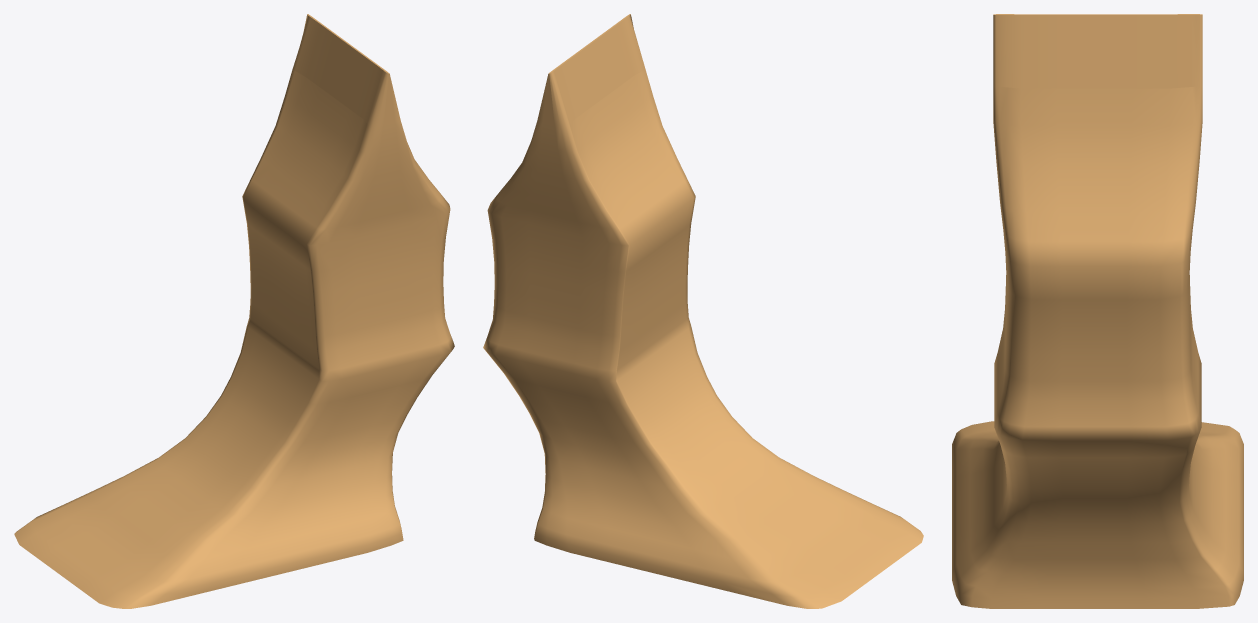
The model's file is HouseBase.obj.
3 views of the same model, side by side, from view 1: azimuth 30°, elevation 25°; view 2: azimuth 150°, elevation 25°; view 3: azimuth 270°, elevation 25° (orthographic). The views are drawn at different scales.
Parts seen in each view (by area): view 1: House1 HouseBase1; view 2: House1 HouseBase1; view 3: House1 HouseBase1.
Part boxes in pixels (x1,y1,x2,y2): House1 HouseBase1: (14,14,454,608); House1 HouseBase1: (483,14,923,608); House1 HouseBase1: (952,14,1243,608).
Bounding box in the file's own units: 31.17 × 37.29 × 16.75.
